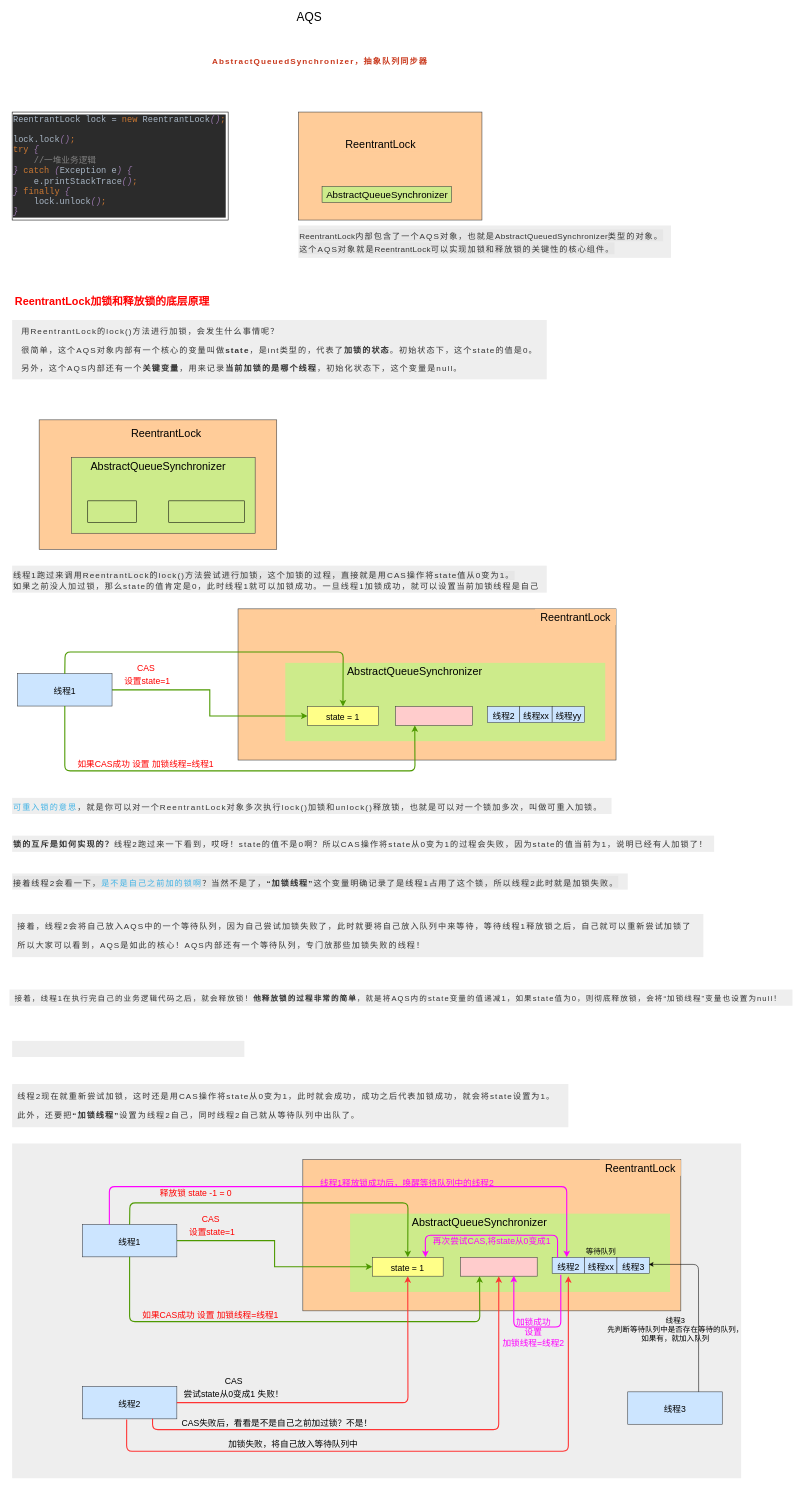
This 801x1487 diagram has some shape labels left out. The centre of each missing label's shape, as x and y in pixels:
state = 0: point 111,511
加锁线程 = null: point 206,511
加锁线程 = 线程1: point 433,715
加锁线程 = 线程2: point 498,1266
接下来，会从 等待队列的队头唤醒线程2重新尝试加锁。: point 128,1049
